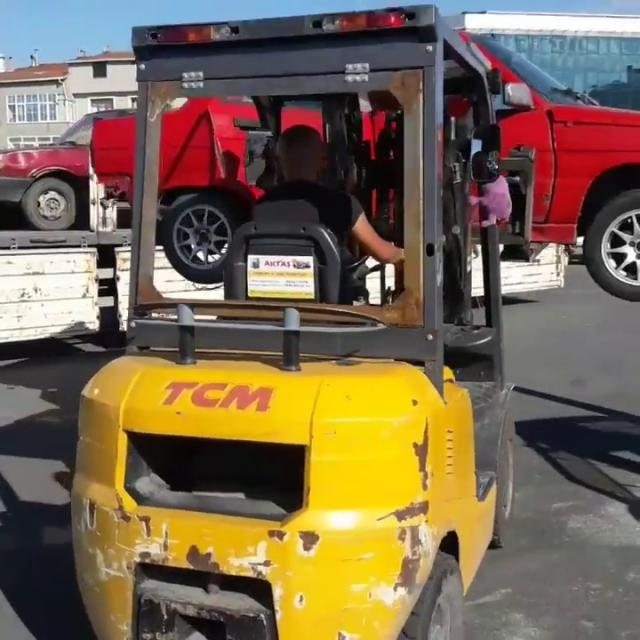ForkLift: (73, 39, 517, 640), (106, 26, 106, 27)
Human: (225, 107, 415, 324)
